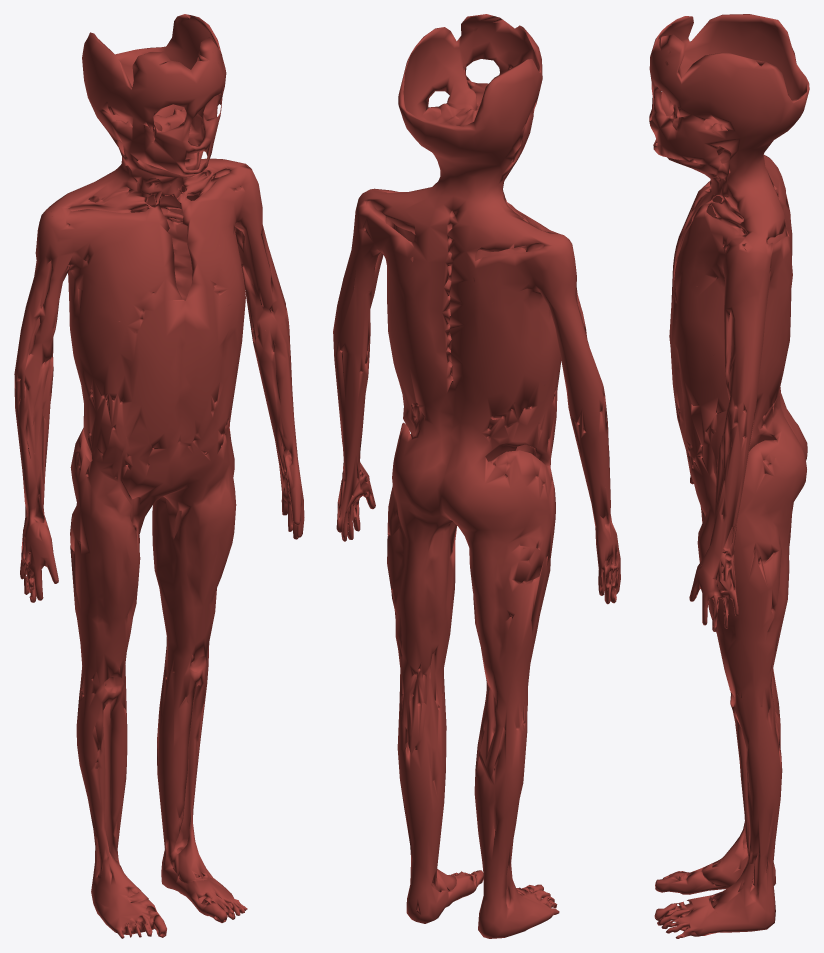
The model's file is pediatric_child_5y_female.muscular.LOD2.glb.
The picture shows the model from 3 angles, left to right: view 1: azimuth 30°, elevation 25°; view 2: azimuth 150°, elevation 25°; view 3: azimuth 270°, elevation 25°; orthographic projection.
Parts seen in each view (by area): view 1: PEDIATRIC.CHILD_5Y.FEMALE.MUSCULAR.MUSCLE; view 2: PEDIATRIC.CHILD_5Y.FEMALE.MUSCULAR.MUSCLE; view 3: PEDIATRIC.CHILD_5Y.FEMALE.MUSCULAR.MUSCLE.
Boxes of the visible parts, x1,y1,x2,y2 form: PEDIATRIC.CHILD_5Y.FEMALE.MUSCULAR.MUSCLE: (14, 14, 304, 938); PEDIATRIC.CHILD_5Y.FEMALE.MUSCULAR.MUSCLE: (333, 14, 620, 938); PEDIATRIC.CHILD_5Y.FEMALE.MUSCULAR.MUSCLE: (649, 14, 809, 938).
Size of the model in its own units: 0.3466 by 1.07 by 0.1756.
